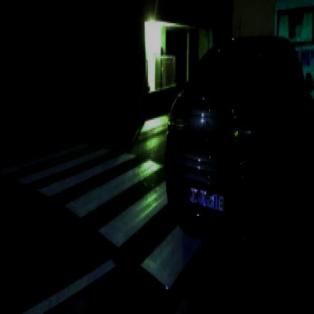Paso de Cebra: (36, 140, 165, 230)
